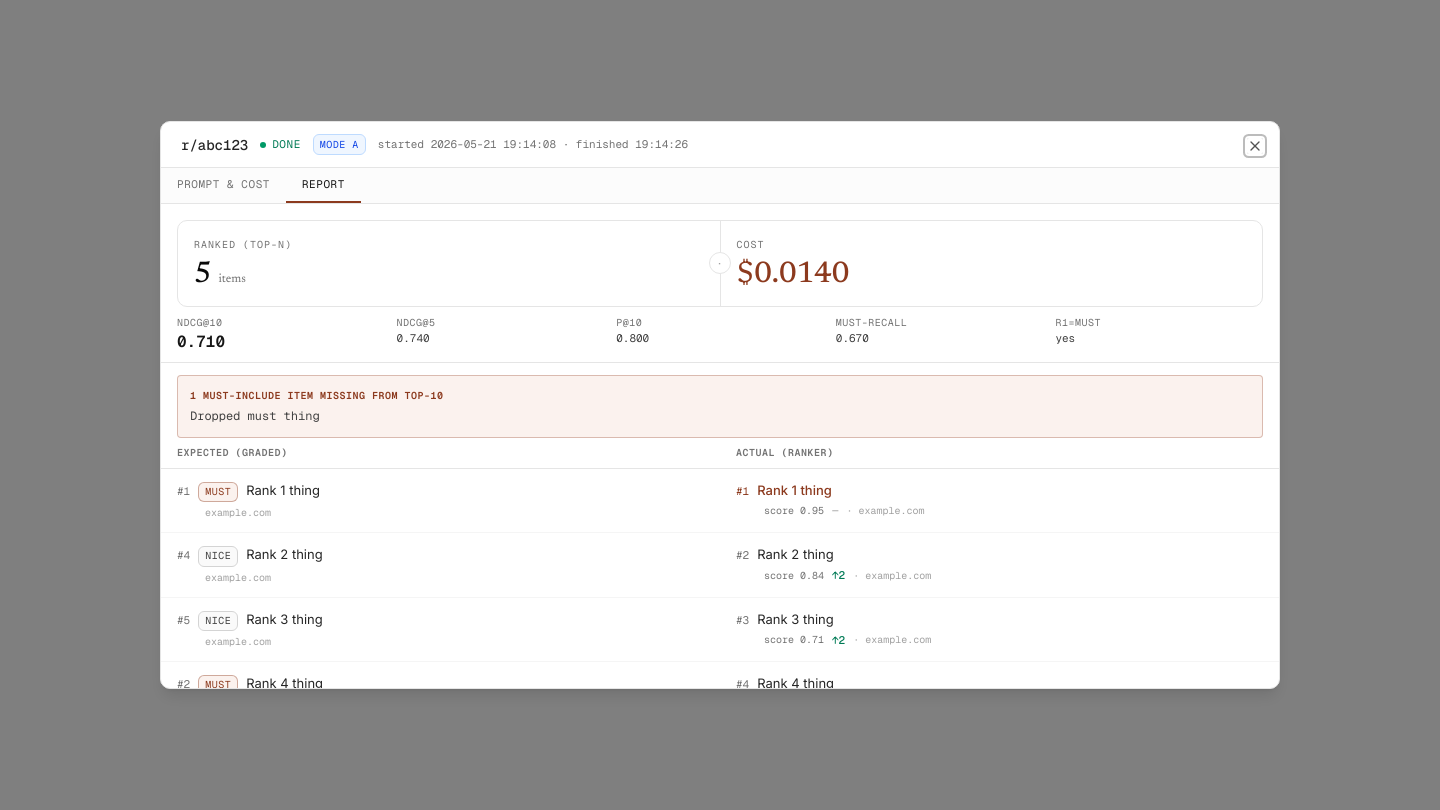
RunDetailDrawer — Report tab › preserves the score/cost breakdown test IDs in the Prompt & Cost panel after the tab refactor
Click the tab with test id "drawer-tab-prompt-cost".
click(224, 185)  # box [161, 168, 286, 202]
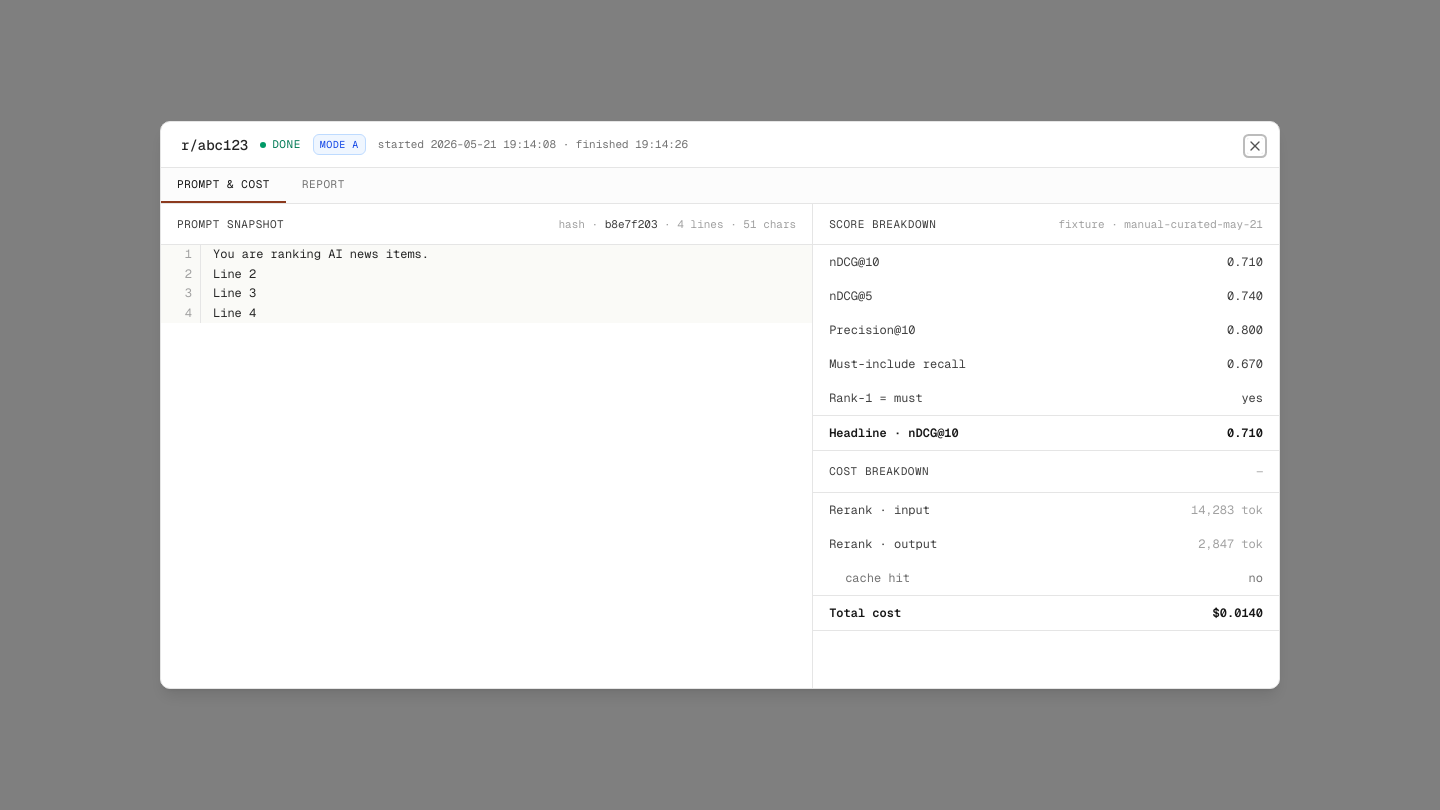
Expected: the panel with test id "drawer-tab-panel-prompt-cost" is shown, [161, 204, 1279, 688]
Expected: the element with test id "drawer-score-breakdown" is shown, [813, 245, 1279, 451]
Expected: the element with test id "drawer-cost-breakdown" is shown, [813, 492, 1279, 630]
